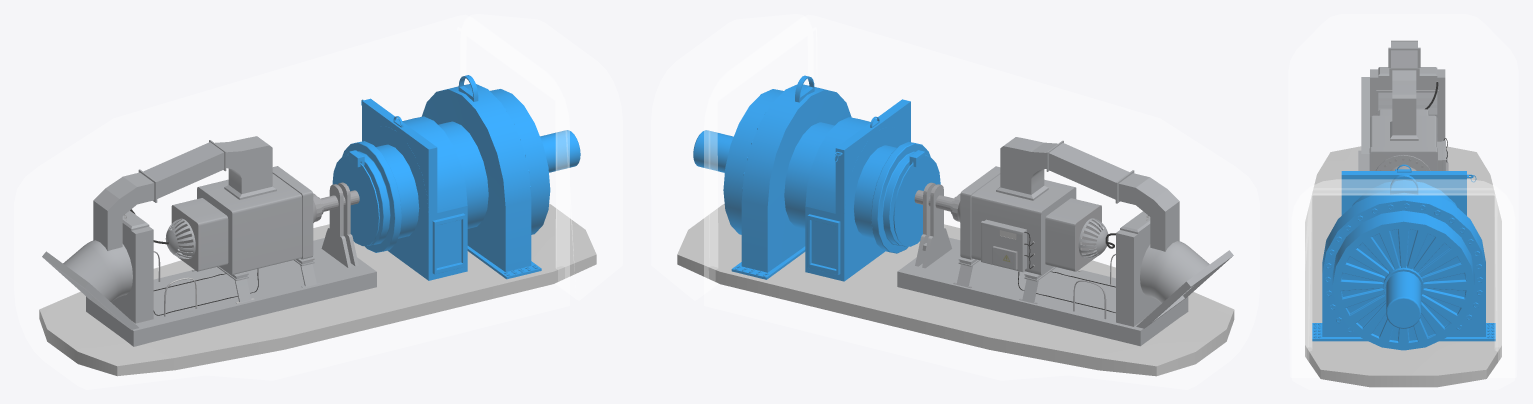
Rendered from Turbaine.glb.
The picture shows the model from 3 angles, left to right: view 1: azimuth 30°, elevation 25°; view 2: azimuth 150°, elevation 25°; view 3: azimuth 270°, elevation 25°; orthographic projection. The views are drawn at different scales.
Parts seen in each view (by area): view 1: hull, parts; view 2: hull, parts; view 3: hull, parts.
Part boxes in pixels (x1,y1,x2,y2): hull: [14, 14, 622, 389]; parts: [39, 75, 596, 376]; hull: [651, 14, 1259, 389]; parts: [677, 75, 1234, 376]; hull: [1288, 14, 1518, 389]; parts: [1305, 40, 1501, 387].
Bounding box in the file's own units: 2.68 × 1.09 × 1.11.
4 materials, 3 textured.
